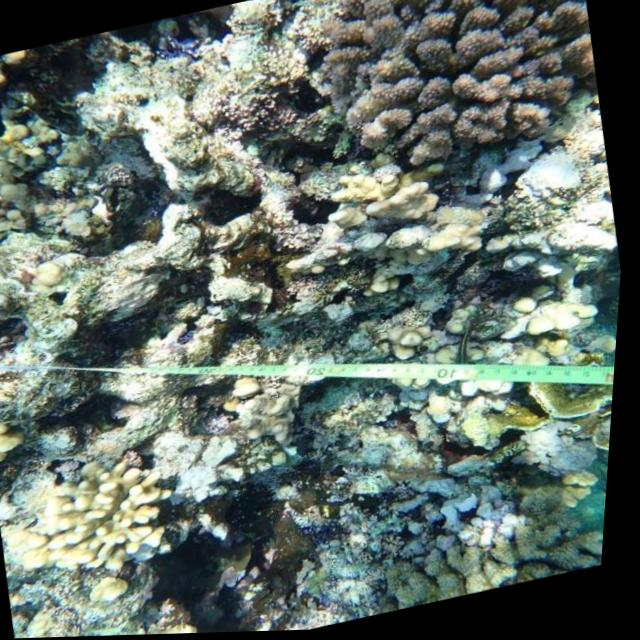Bleached Coral: (117, 393, 283, 535), (442, 119, 592, 232), (407, 451, 547, 569)
Dead Coral: (305, 0, 607, 163)
